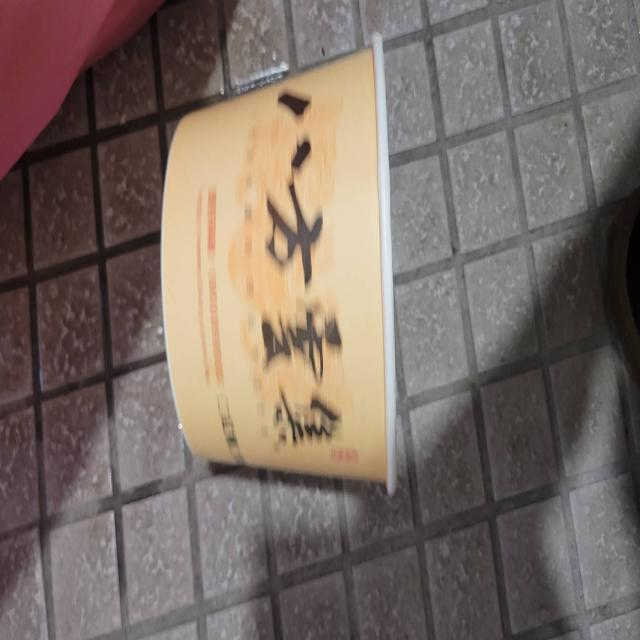Paper bowl: (151, 23, 410, 510)
